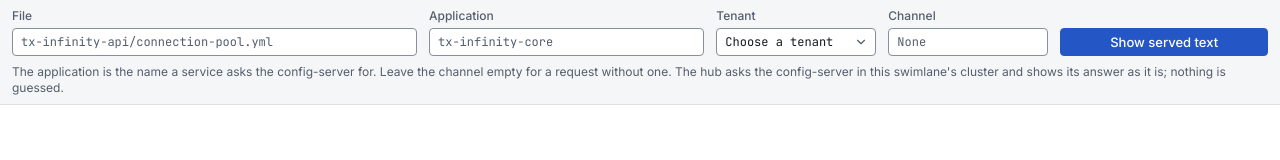
Test: a form that cannot be sent › names what is missing next to each field, and sends nothing
This screenshot has width=1280, height=160.
Step 1. Click the button "Show served text" → (1164, 42), box [1060, 28, 1268, 56]
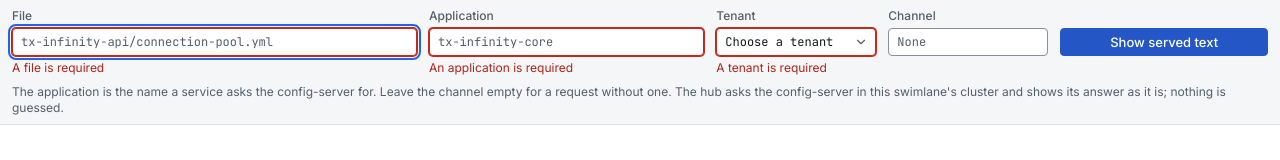
Now the text "A file is required" is shown, box [12, 60, 104, 75]
Now the text "An application is required" is shown, box [429, 60, 573, 75]
Now the text "A tenant is required" is shown, box [716, 60, 827, 75]
